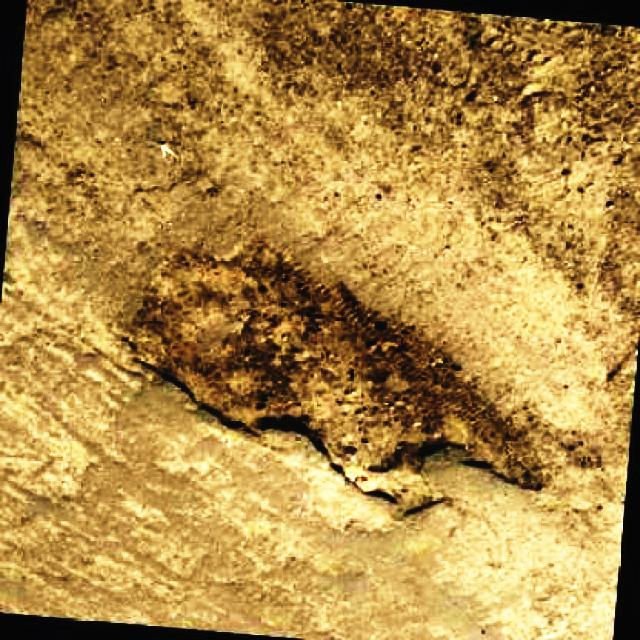pothole: (121, 245, 554, 504)
